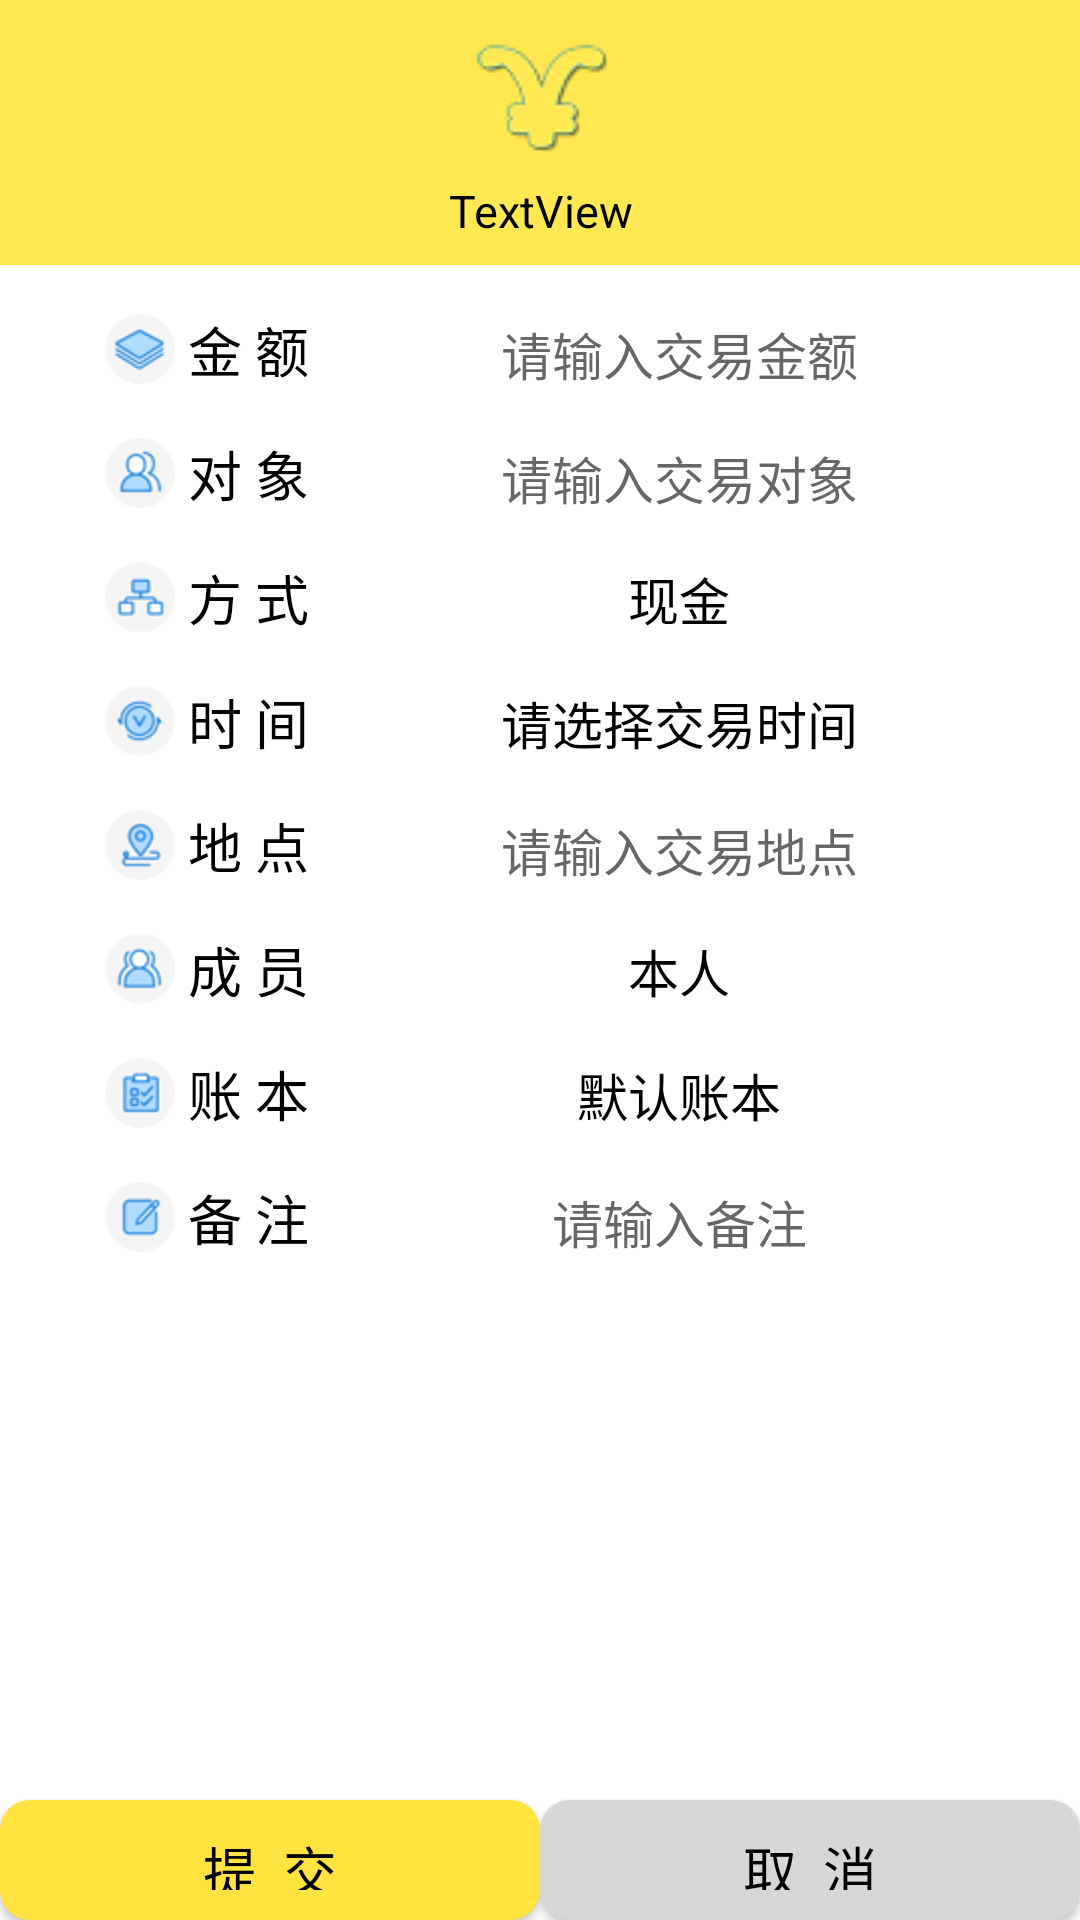

Where to tap for icons on this 1080×1920 app screen, as (x,y):
tubiao: (541,97)
